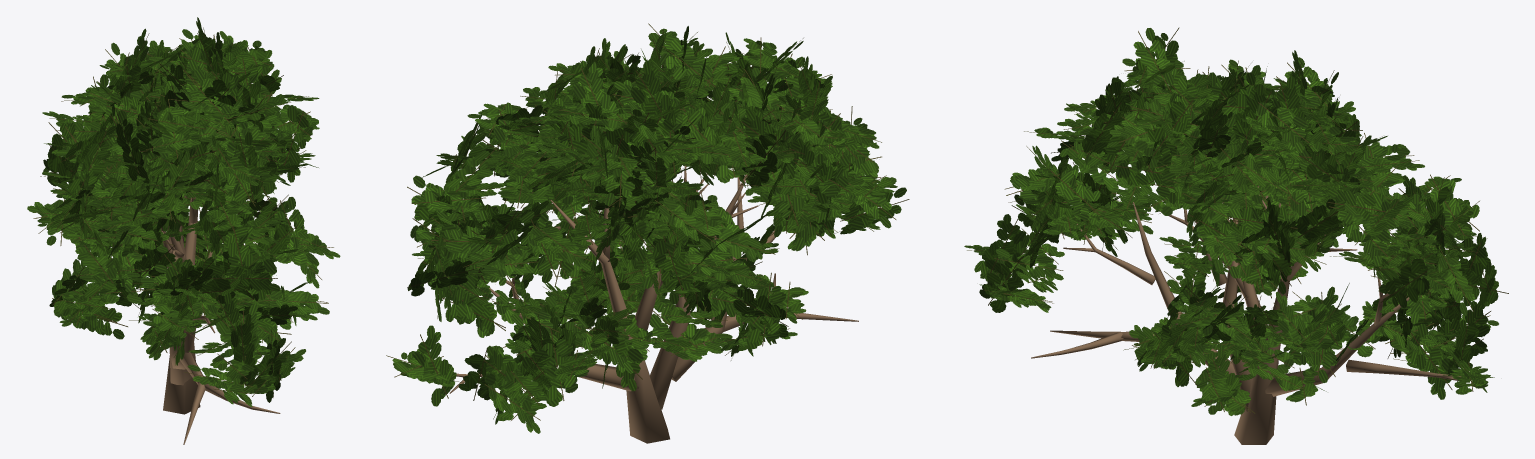
The model's file is near.glb.
3 views of the same model, side by side, from view 1: azimuth 30°, elevation 25°; view 2: azimuth 150°, elevation 25°; view 3: azimuth 270°, elevation 25° (orthographic). The views are drawn at different scales.
Visible parts, largest first — view 1: foliage, bark; view 2: foliage, bark; view 3: foliage, bark.
Part boxes in pixels (left/top/right/bottom): foliage: left=27, top=17, right=340, bottom=406; bark: left=161, top=195, right=280, bottom=444; foliage: left=386, top=23, right=909, bottom=433; bark: left=449, top=165, right=858, bottom=443; foliage: left=964, top=27, right=1508, bottom=415; bark: left=1031, top=186, right=1461, bottom=444.
Size of the model in its own units: 13.52 by 14.68 by 19.28.
2 materials, 1 textured.
